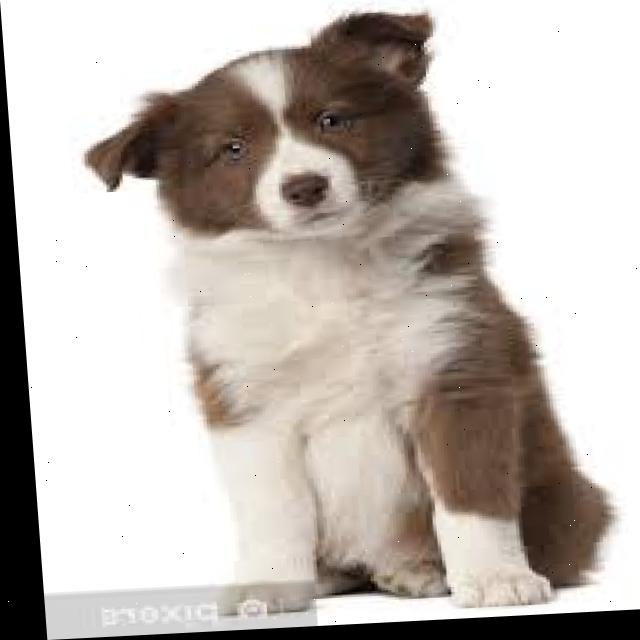ALASKAN_MALAMUTE: (66, 0, 611, 637)
